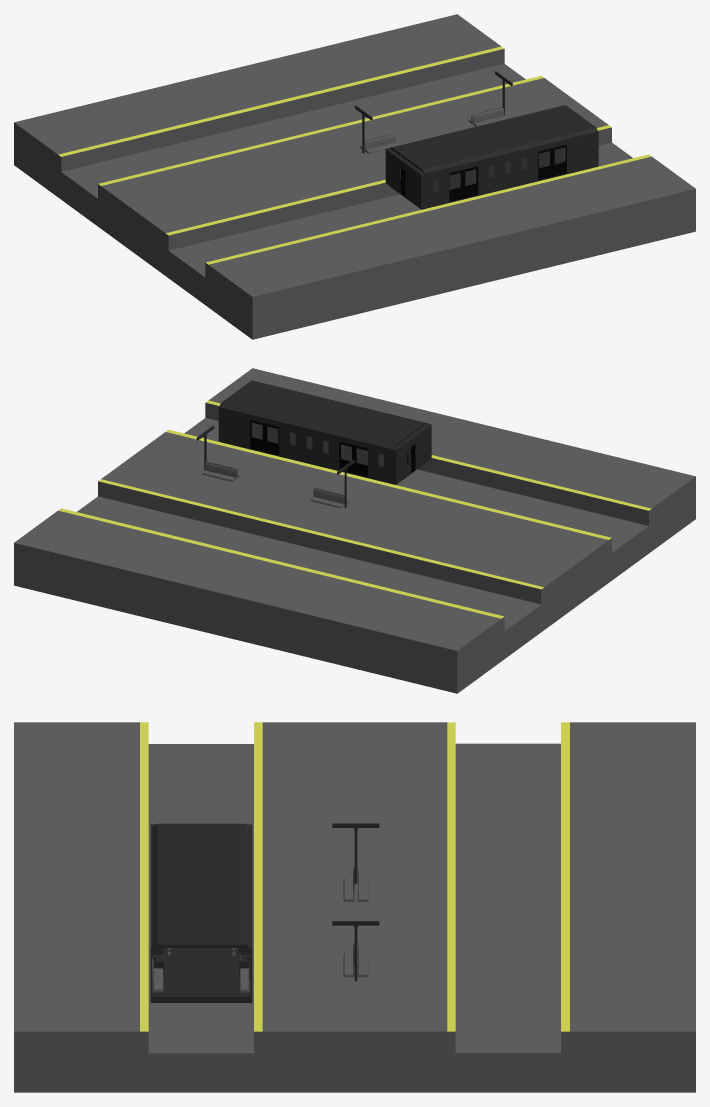
File: tren02-2.fbx
The picture shows the model from 3 angles, top to bottom: view 1: azimuth 30°, elevation 25°; view 2: azimuth 150°, elevation 25°; view 3: azimuth 270°, elevation 25°; orthographic projection. The views are drawn at different scales.
Visible parts, largest first — view 1: Terreno, Left.001, TOP.001, Fin.001, DOWN.001, Right.001; view 2: Terreno, Right.001, TOP.001, Fin.001, DOWN.001, Left.001; view 3: Terreno, TOP.001, DOWN.001, Left.001, Right.001.
Part boxes in pixels (x1,y1,x2,y2): Terreno: [14, 14, 695, 339]; Left.001: [420, 126, 598, 207]; TOP.001: [394, 106, 593, 169]; Fin.001: [385, 148, 424, 208]; DOWN.001: [390, 147, 598, 209]; Right.001: [390, 105, 567, 150]; Terreno: [14, 368, 695, 693]; Right.001: [218, 401, 396, 483]; TOP.001: [224, 382, 422, 445]; Fin.001: [392, 423, 431, 484]; DOWN.001: [218, 422, 426, 484]; Left.001: [250, 380, 427, 426]; Terreno: [14, 722, 695, 1092]; TOP.001: [164, 823, 238, 947]; DOWN.001: [150, 948, 252, 1002]; Left.001: [150, 823, 164, 996]; Right.001: [238, 823, 252, 996].
Size of the model in its own units: 21441 by 3901 by 19981.
